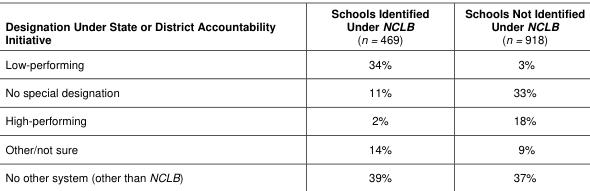table: (4, 4, 584, 184)
table column: (4, 4, 302, 184), (302, 4, 446, 184), (446, 4, 584, 184)
table column header: (4, 4, 584, 50)
table row: (4, 4, 584, 50), (4, 105, 584, 134), (4, 77, 584, 105), (4, 134, 584, 162), (4, 50, 584, 77), (4, 162, 584, 184)
